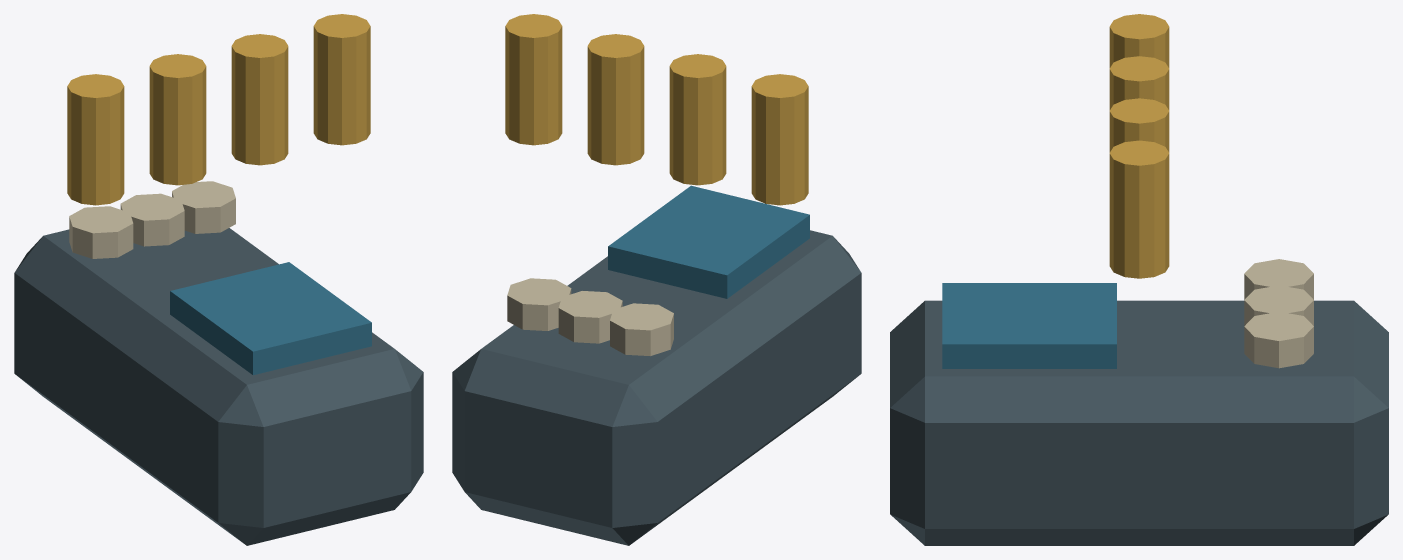
The model's file is set_fuse_box.glb.
3 views of the same model, side by side, from view 1: azimuth 30°, elevation 25°; view 2: azimuth 150°, elevation 25°; view 3: azimuth 270°, elevation 25° (orthographic). The views are drawn at different scales.
Parts seen in each view (by area): view 1: set_fuse_box; view 2: set_fuse_box; view 3: set_fuse_box.
Part boxes in pixels (x1,y1,x2,y2): set_fuse_box: (14, 14, 423, 545); set_fuse_box: (452, 14, 861, 545); set_fuse_box: (890, 14, 1388, 545).
Size of the model in its own units: 0.144 by 0.185 by 0.2.
